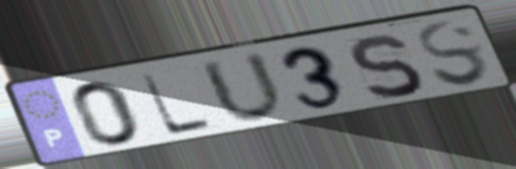0: (67, 79, 146, 150)
3: (279, 43, 356, 116)
L: (136, 71, 218, 138)
S: (346, 32, 426, 103), (414, 18, 494, 89)
U: (194, 48, 289, 127)
